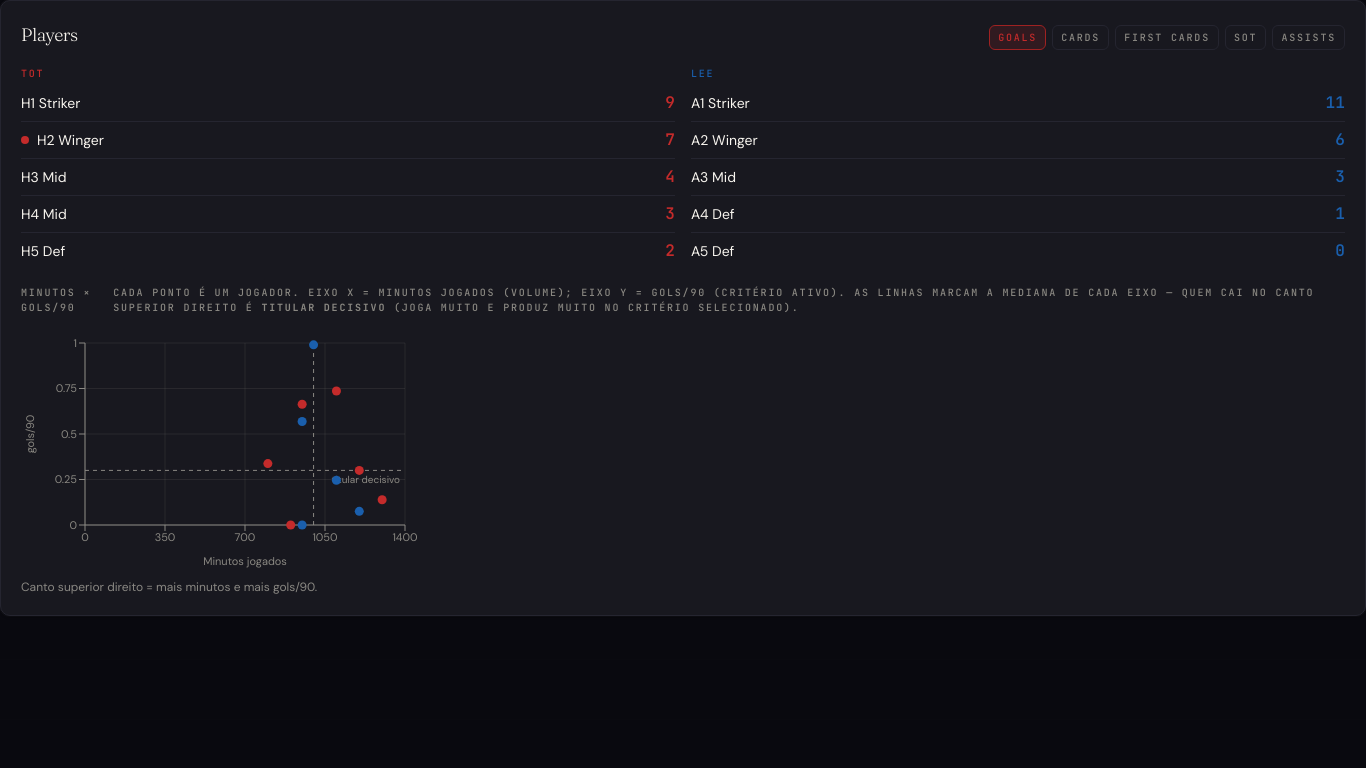
Test: U.6 — scatter Y axis segue criterion ativo › ao trocar para 'cards', Y-axis label muda para cartões/90
Click the button "cards".
click(1081, 38)  # box [1052,25,1109,50]
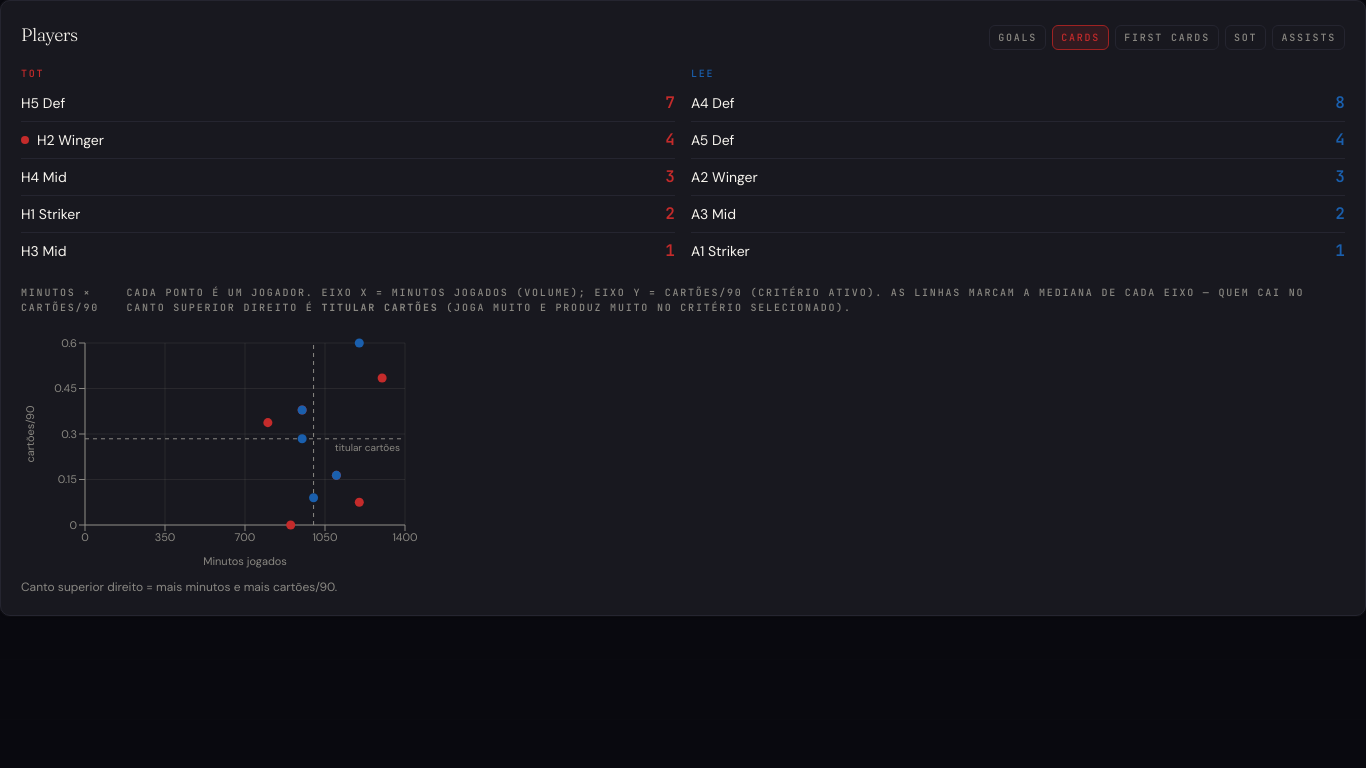
Now the text "cartões/90" is shown, box [665,286,743,299]
Now the text "gols/90" is gone
